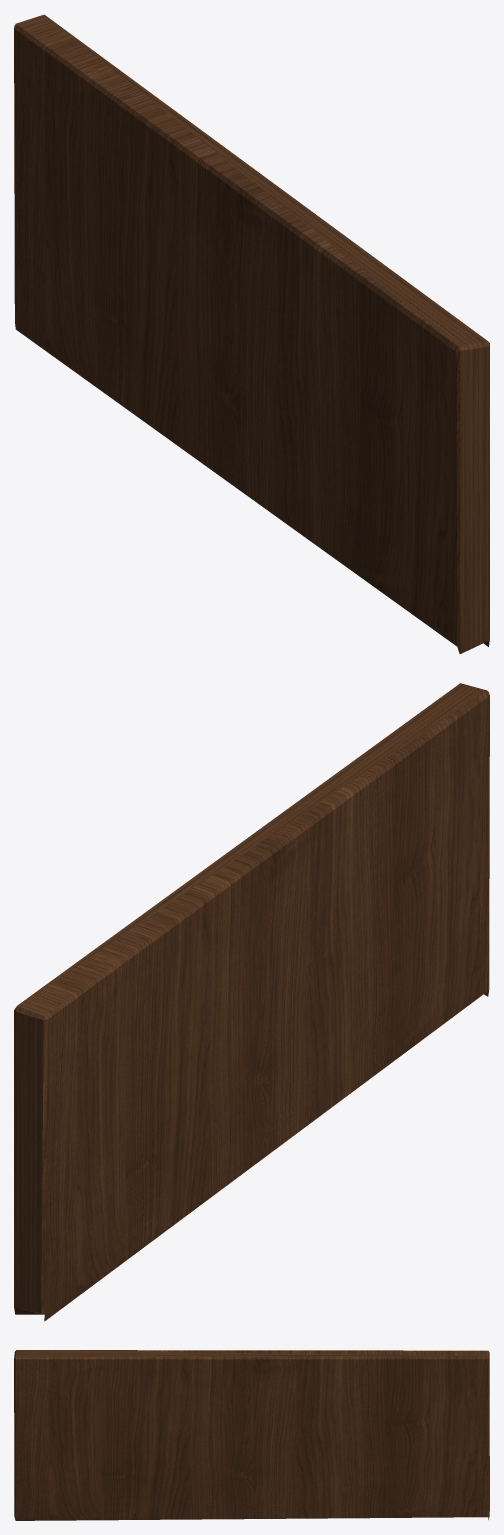
Rendered from modesty-6e579900c86d.glb.
3 views of the same model, one above another, from view 1: azimuth 30°, elevation 25°; view 2: azimuth 150°, elevation 25°; view 3: azimuth 270°, elevation 25° (orthographic). The views are drawn at different scales.
Parts seen in each view (by area): view 1: Object008; view 2: Object008; view 3: Object008.
Part boxes in pixels (x1,y1,x2,y2): Object008: (14, 14, 489, 653); Object008: (14, 683, 489, 1321); Object008: (14, 1350, 489, 1520).
Size of the model in its own units: 0.0172 by 0.1556 by 0.4083.
Materials: 1 (1 with a texture image).
